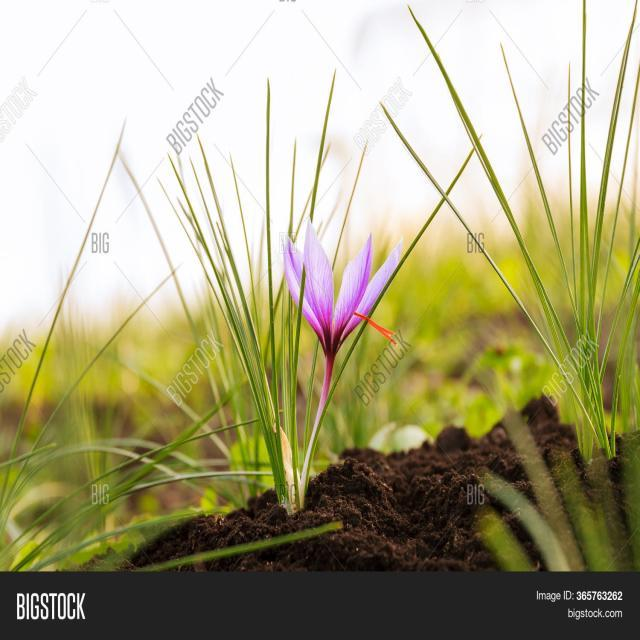Flower: (278, 216, 402, 354)
stigma: (345, 304, 399, 344)
